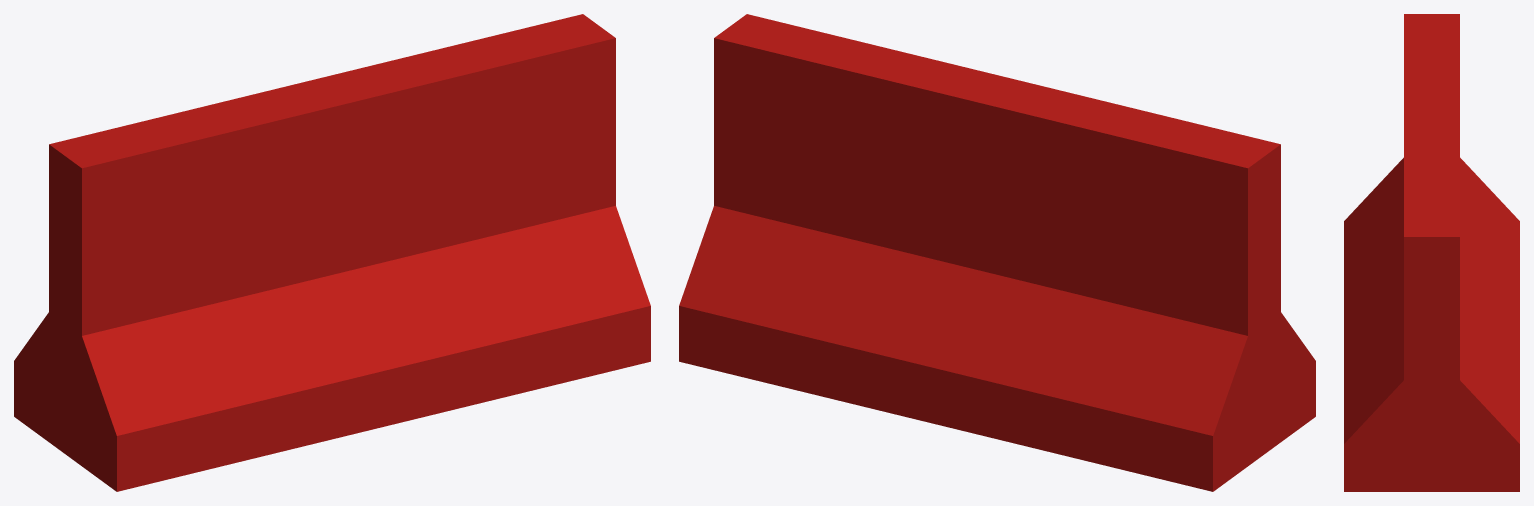
The model's file is plant.fence.water_barrier.glb.
The picture shows the model from 3 angles, left to right: view 1: azimuth 30°, elevation 25°; view 2: azimuth 150°, elevation 25°; view 3: azimuth 270°, elevation 25°; orthographic projection. The views are drawn at different scales.
Visible parts, largest first — view 1: main__hazard_red; view 2: main__hazard_red; view 3: main__hazard_red.
Boxes of the visible parts, left/top/right/bottom form: main__hazard_red: left=14, top=14, right=650, bottom=491; main__hazard_red: left=679, top=14, right=1315, bottom=491; main__hazard_red: left=1344, top=14, right=1519, bottom=491.
Bounding box in the file's own units: 1.5 × 0.8 × 0.5.
